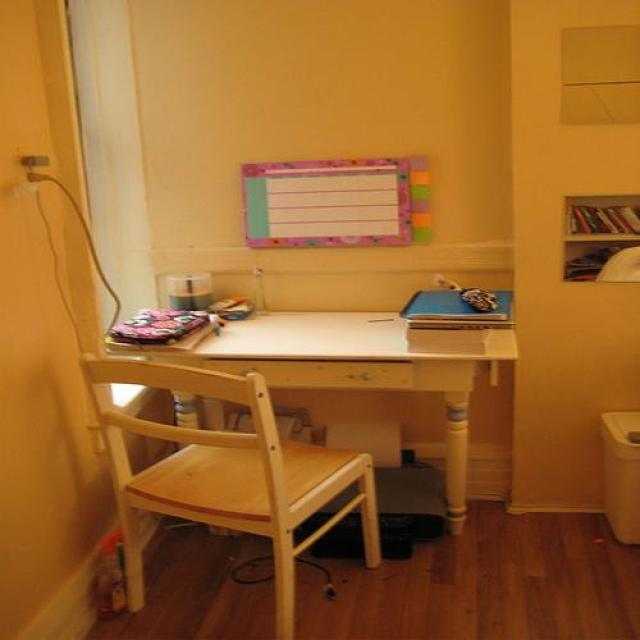chair: (81, 361, 381, 640)
